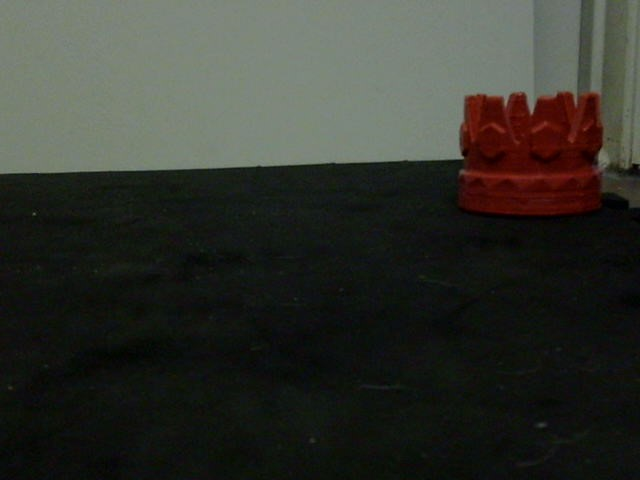crown: (453, 87, 608, 217)
